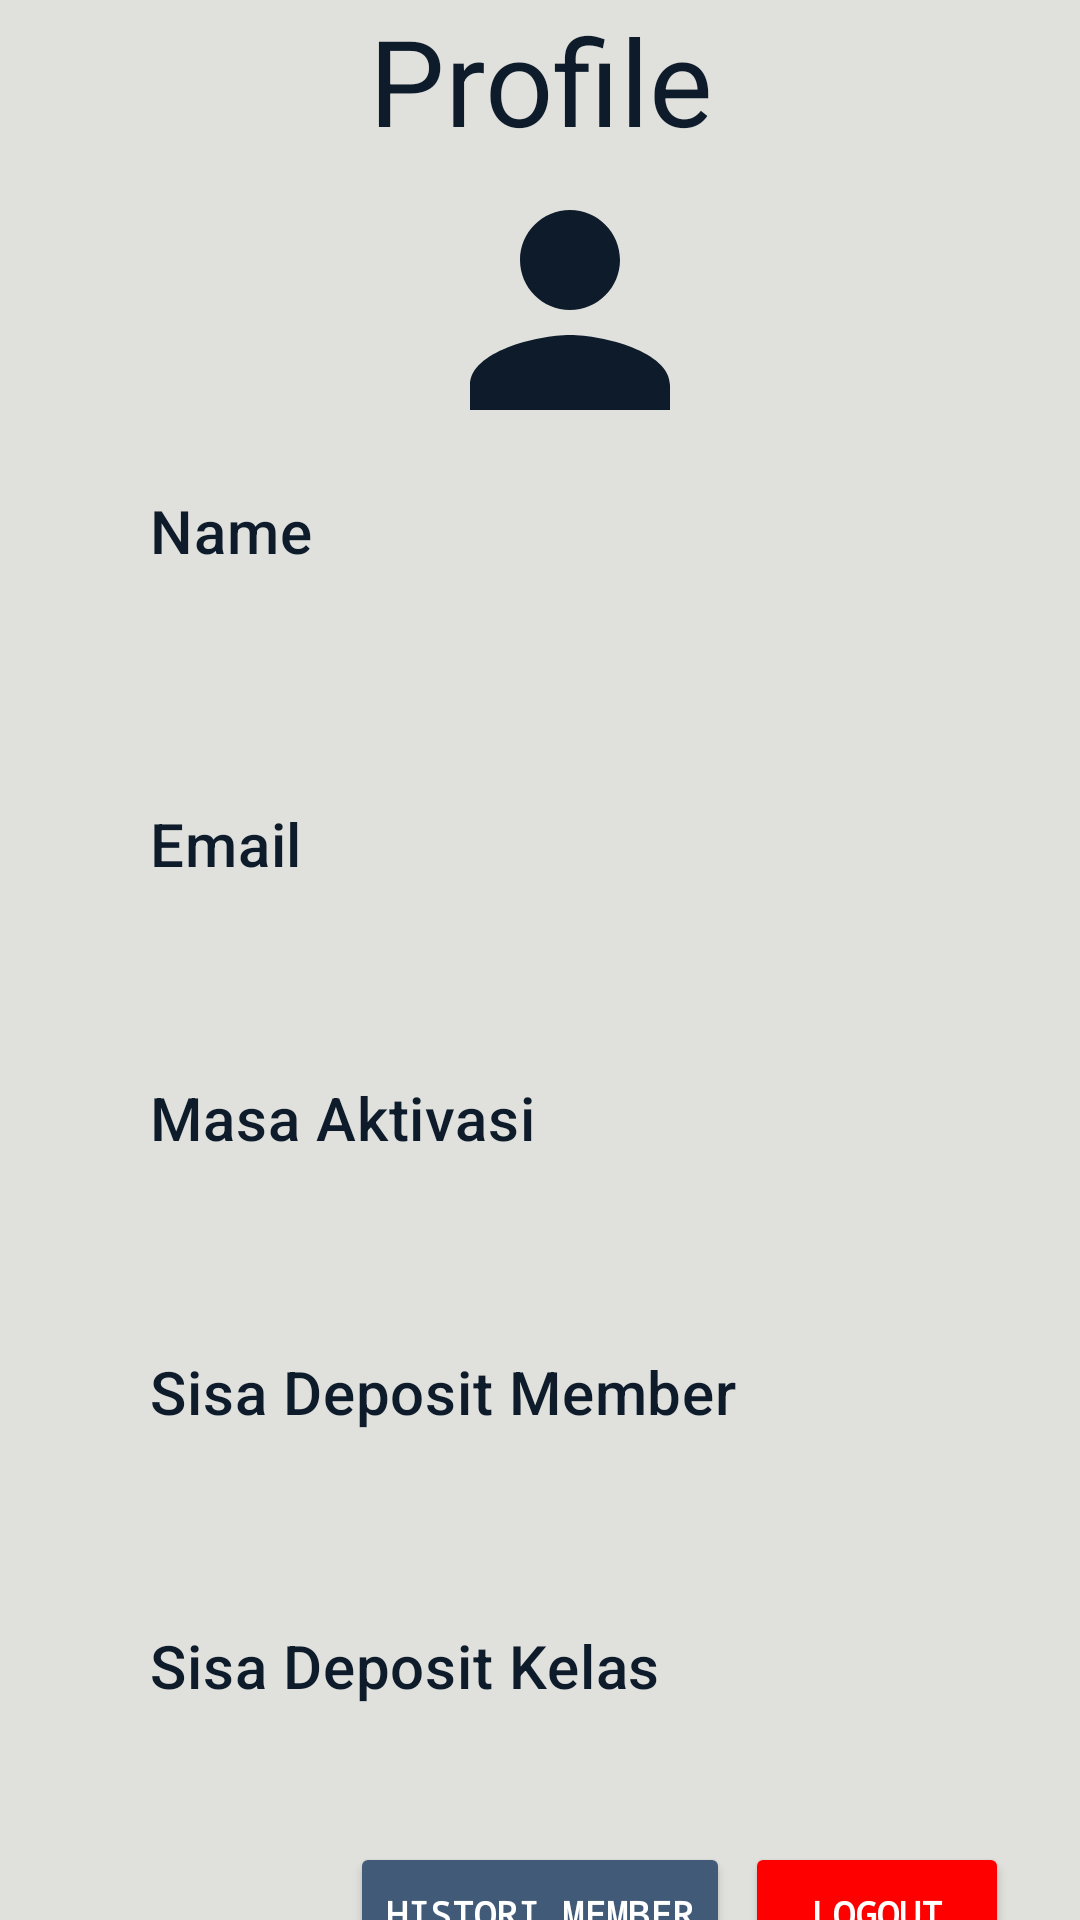

Screen size 1080x1920. Icon name, then its center in pixels as point (x, y):
person: point (570, 310)
